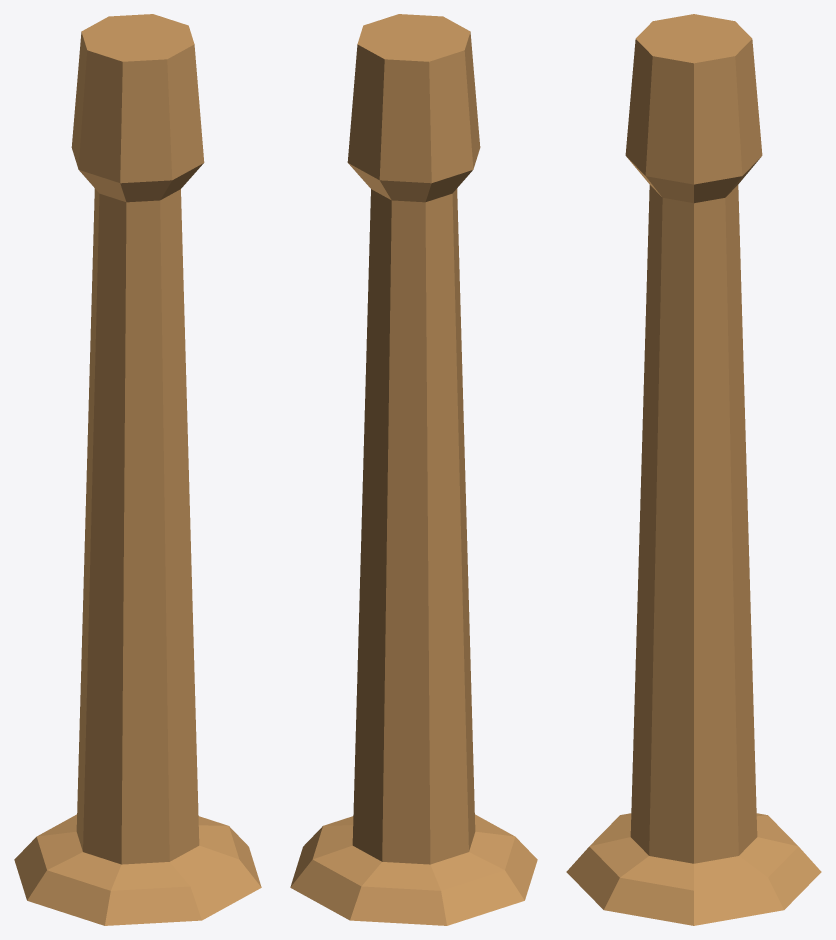
File: egypt-pillar-lotus-cluster.glb
3 renders of one model, left to right at view 1: azimuth 30°, elevation 25°; view 2: azimuth 150°, elevation 25°; view 3: azimuth 270°, elevation 25°, orthographic.
Parts seen in each view (by area): view 1: egypt-pillar-lotus-cluster; view 2: egypt-pillar-lotus-cluster; view 3: egypt-pillar-lotus-cluster.
Boxes of the visible parts, <box> form: egypt-pillar-lotus-cluster: <box>14,14,261,925</box>; egypt-pillar-lotus-cluster: <box>290,14,537,925</box>; egypt-pillar-lotus-cluster: <box>566,14,821,925</box>.
Bounding box in the file's own units: 2.5 × 9 × 2.5.
Materials: 1 (1 with a texture image).
